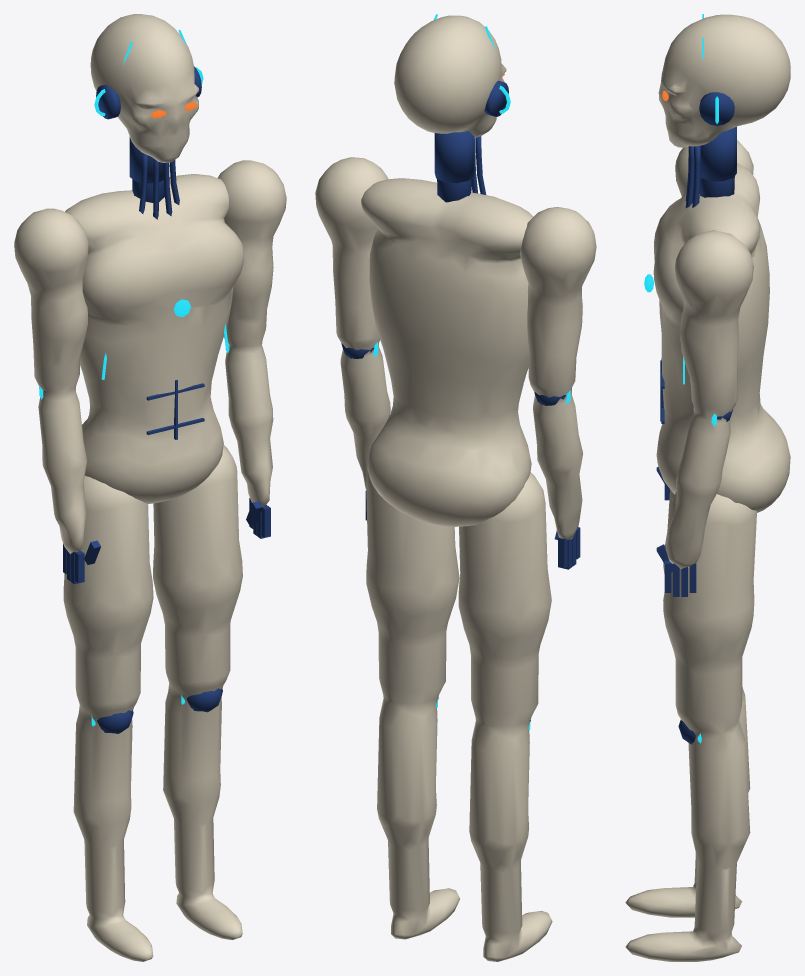
File: Char_Android_A.001.gltf
3 views of the same model, side by side, from view 1: azimuth 30°, elevation 25°; view 2: azimuth 150°, elevation 25°; view 3: azimuth 270°, elevation 25° (orthographic). The views are drawn at different scales.
Visible parts, largest first — view 1: Char_Android_A.001, AndroidA_Leg_L.001, AndroidA_Leg_R.001, AndroidA_Arm_R.001, AndroidA_Arm_L.001, AndroidA_Head.001; view 2: Char_Android_A.001, AndroidA_Leg_R.001, AndroidA_Leg_L.001, AndroidA_Arm_R.001, AndroidA_Head.001, AndroidA_Arm_L.001; view 3: AndroidA_Leg_L.001, Char_Android_A.001, AndroidA_Arm_L.001, AndroidA_Head.001, AndroidA_Leg_R.001, AndroidA_Arm_R.001.
Boxes of the visible parts, x1,y1,x2,y2 form: Char_Android_A.001: (65,153,244,503); AndroidA_Leg_L.001: (153,445,242,939); AndroidA_Leg_R.001: (63,475,153,961); AndroidA_Arm_R.001: (14,208,100,584); AndroidA_Arm_L.001: (218,160,286,538); AndroidA_Head.001: (90,14,203,183); Char_Android_A.001: (361,136,533,526); AndroidA_Leg_R.001: (458,472,552,961); AndroidA_Leg_L.001: (366,471,459,939); AndroidA_Arm_R.001: (520,207,596,569); AndroidA_Head.001: (394,14,510,183); AndroidA_Arm_L.001: (315,157,390,520); AndroidA_Leg_L.001: (625,492,756,961); Char_Android_A.001: (644,145,790,512); AndroidA_Arm_L.001: (656,230,753,596); AndroidA_Head.001: (658,14,790,181); AndroidA_Leg_R.001: (625,489,750,917); AndroidA_Arm_R.001: (656,140,753,500).
Bounding box in the file's own units: 0.5544 × 1.83 × 0.2996.
